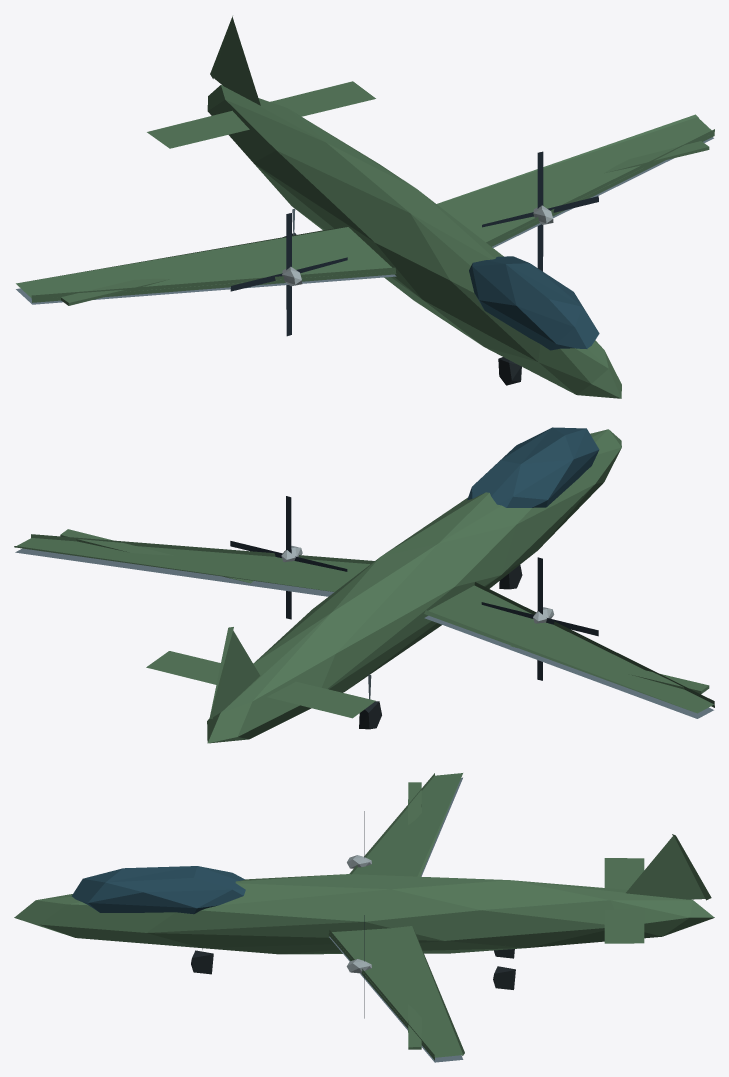
The model's file is aircraft-cargo-plane.lod2.glb.
The picture shows the model from 3 angles, top to bottom: view 1: azimuth 30°, elevation 25°; view 2: azimuth 150°, elevation 25°; view 3: azimuth 270°, elevation 25°; orthographic projection. The views are drawn at different scales.
Parts seen in each view (by area): view 1: aircraft-cargo-plane__body, aircraft-cargo-plane__propeller_1, aircraft-cargo-plane__propeller_0, aircraft-cargo-plane__aileron_1, aircraft-cargo-plane__aileron_-1; view 2: aircraft-cargo-plane__body, aircraft-cargo-plane__propeller_1, aircraft-cargo-plane__propeller_0, aircraft-cargo-plane__aileron_1, aircraft-cargo-plane__aileron_-1, aircraft-cargo-plane__gear_-0p85; view 3: aircraft-cargo-plane__body, aircraft-cargo-plane__aileron_1, aircraft-cargo-plane__aileron_-1, aircraft-cargo-plane__gear_0, aircraft-cargo-plane__gear_0p85.
Part boxes in pixels (x1,y1,x2,y2): aircraft-cargo-plane__body: (16, 16, 714, 398); aircraft-cargo-plane__propeller_1: (482, 151, 598, 271); aircraft-cargo-plane__propeller_0: (230, 213, 347, 336); aircraft-cargo-plane__aileron_1: (604, 141, 709, 173); aircraft-cargo-plane__aileron_-1: (61, 278, 170, 305); aircraft-cargo-plane__body: (14, 427, 714, 743); aircraft-cargo-plane__propeller_1: (230, 496, 347, 619); aircraft-cargo-plane__propeller_0: (481, 557, 598, 680); aircraft-cargo-plane__aileron_1: (60, 529, 253, 583); aircraft-cargo-plane__aileron_-1: (510, 645, 709, 694); aircraft-cargo-plane__gear_-0p85: (359, 674, 381, 729); aircraft-cargo-plane__body: (14, 773, 714, 1062); aircraft-cargo-plane__aileron_1: (408, 1004, 421, 1049); aircraft-cargo-plane__aileron_-1: (408, 782, 421, 824); aircraft-cargo-plane__gear_0: (191, 948, 213, 974); aircraft-cargo-plane__gear_0p85: (493, 966, 515, 989).
Size of the model in its own units: 15.26 by 3.5 by 15.96.
